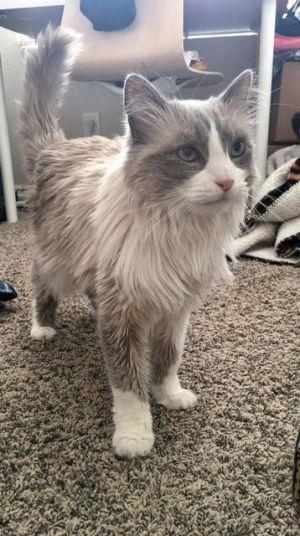ragdoll: (118, 67, 270, 225)
